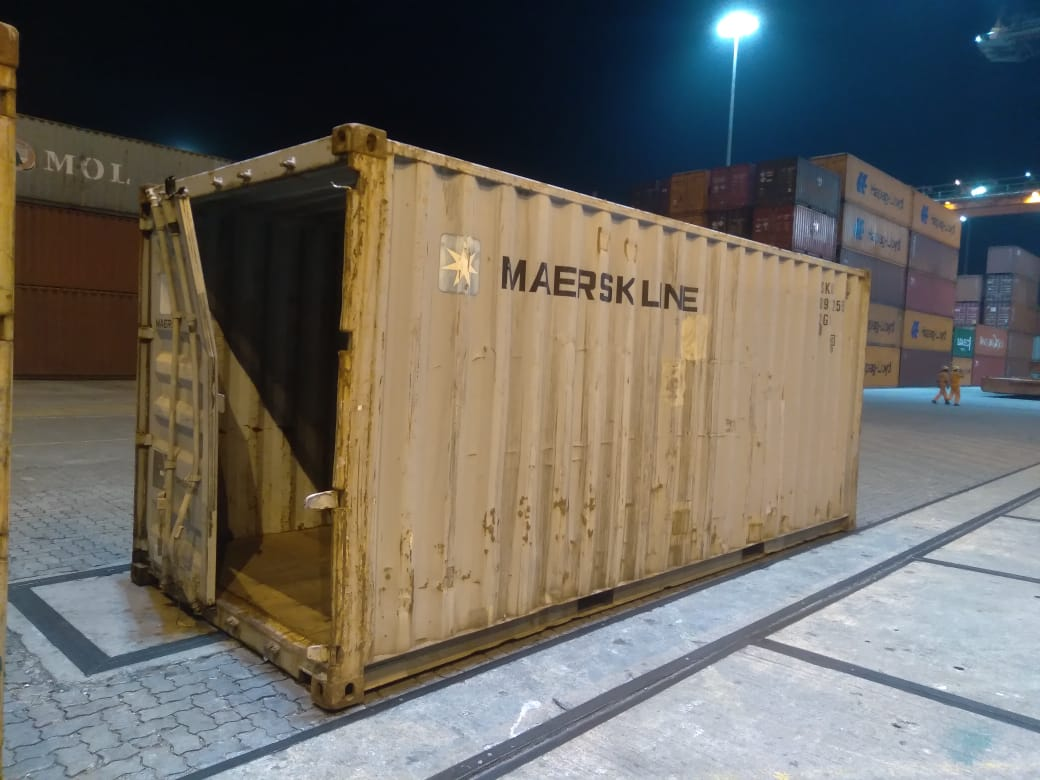moderate: (443, 409, 800, 533)
